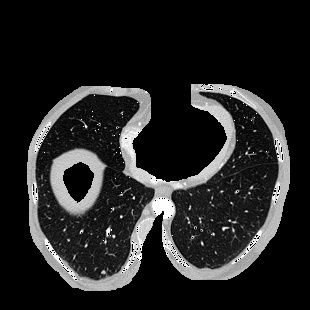PN: (101, 270, 105, 274)
